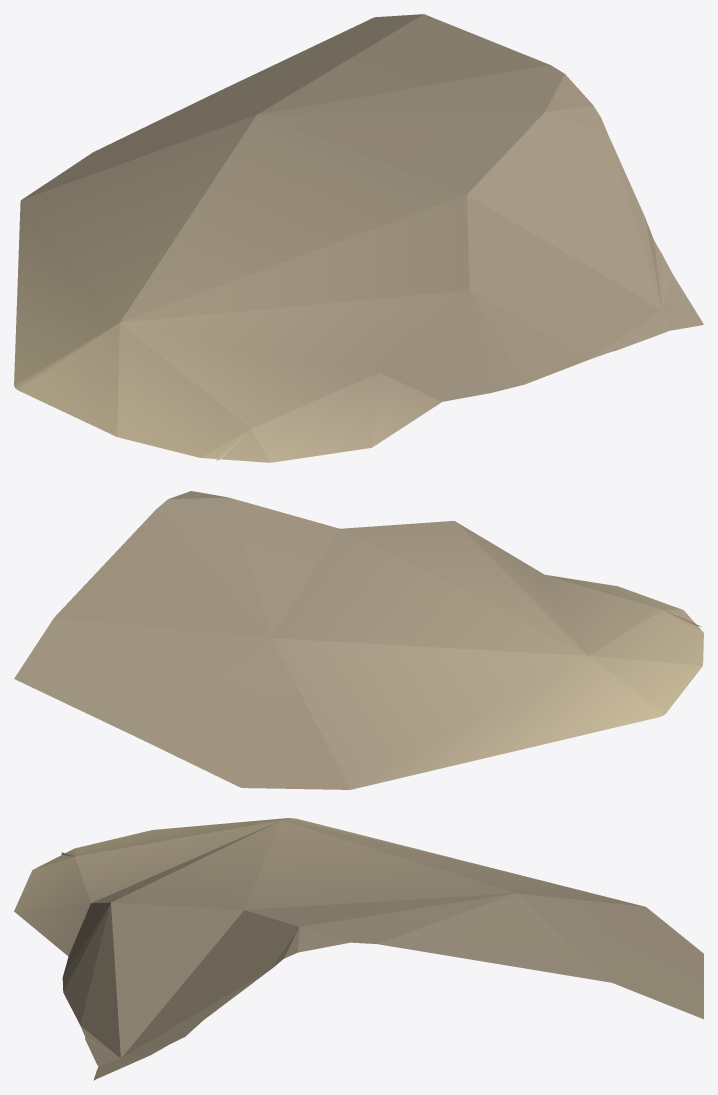
Rendered from bisect-1-5-10.gltf.
The picture shows the model from 3 angles, top to bottom: view 1: azimuth 30°, elevation 25°; view 2: azimuth 150°, elevation 25°; view 3: azimuth 270°, elevation 25°; orthographic projection. The views are drawn at different scales.
Visible parts, largest first — view 1: bisect-1-5-10; view 2: bisect-1-5-10; view 3: bisect-1-5-10.
Part boxes in pixels (box(x1,y1,x2,y2)): bisect-1-5-10: box(14, 14, 703, 462); bisect-1-5-10: box(14, 491, 703, 789); bisect-1-5-10: box(14, 818, 703, 1080).
Size of the model in its own units: 10.65 by 2.61 by 11.82.
